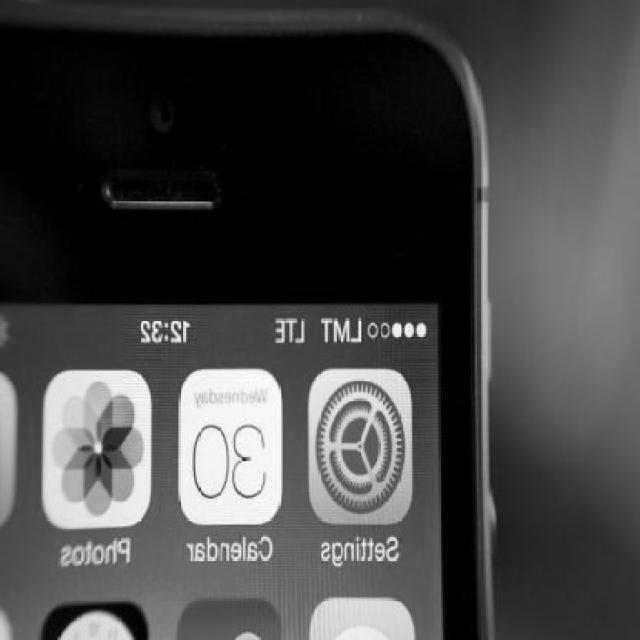fake: (0, 1, 499, 639)
